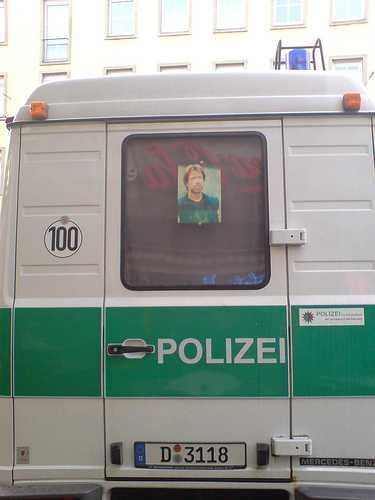Police Van: (0, 67, 373, 488)
